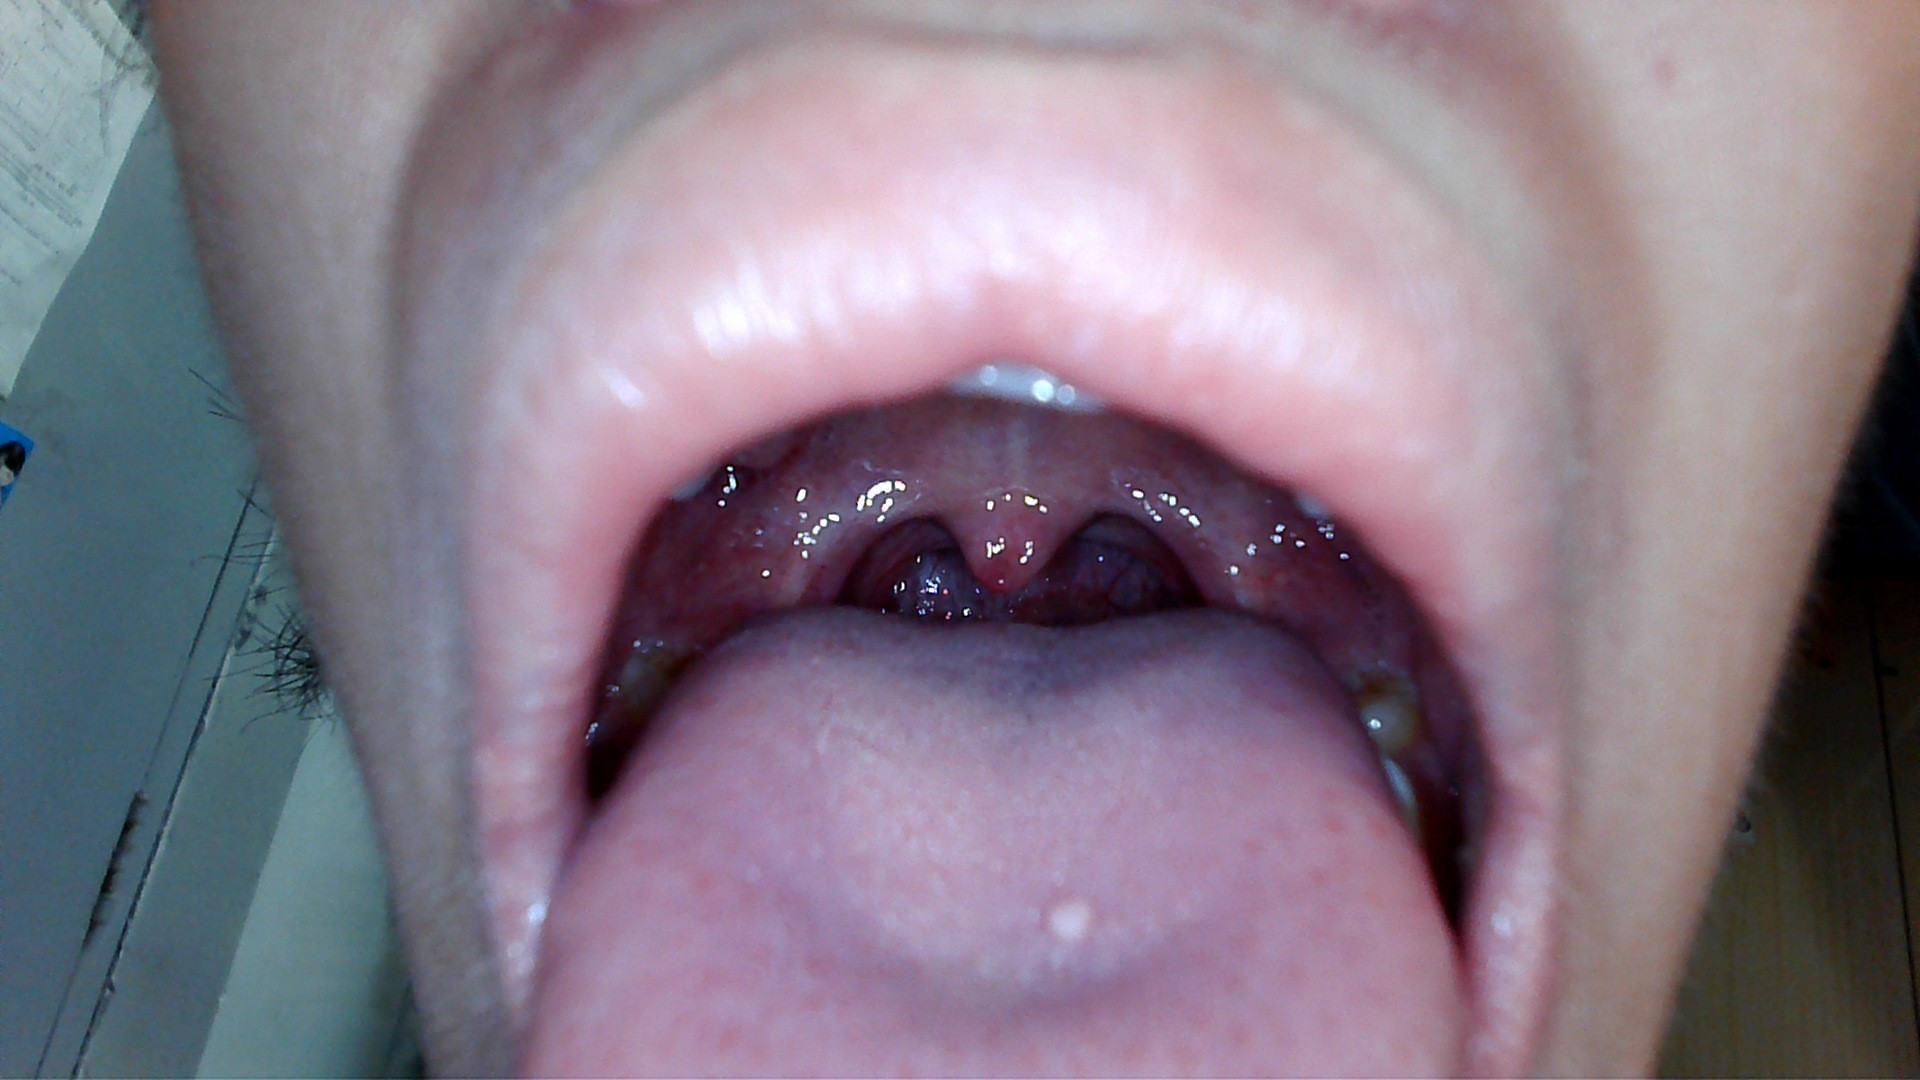throat: (1130, 484, 1234, 604), (778, 484, 882, 596)
